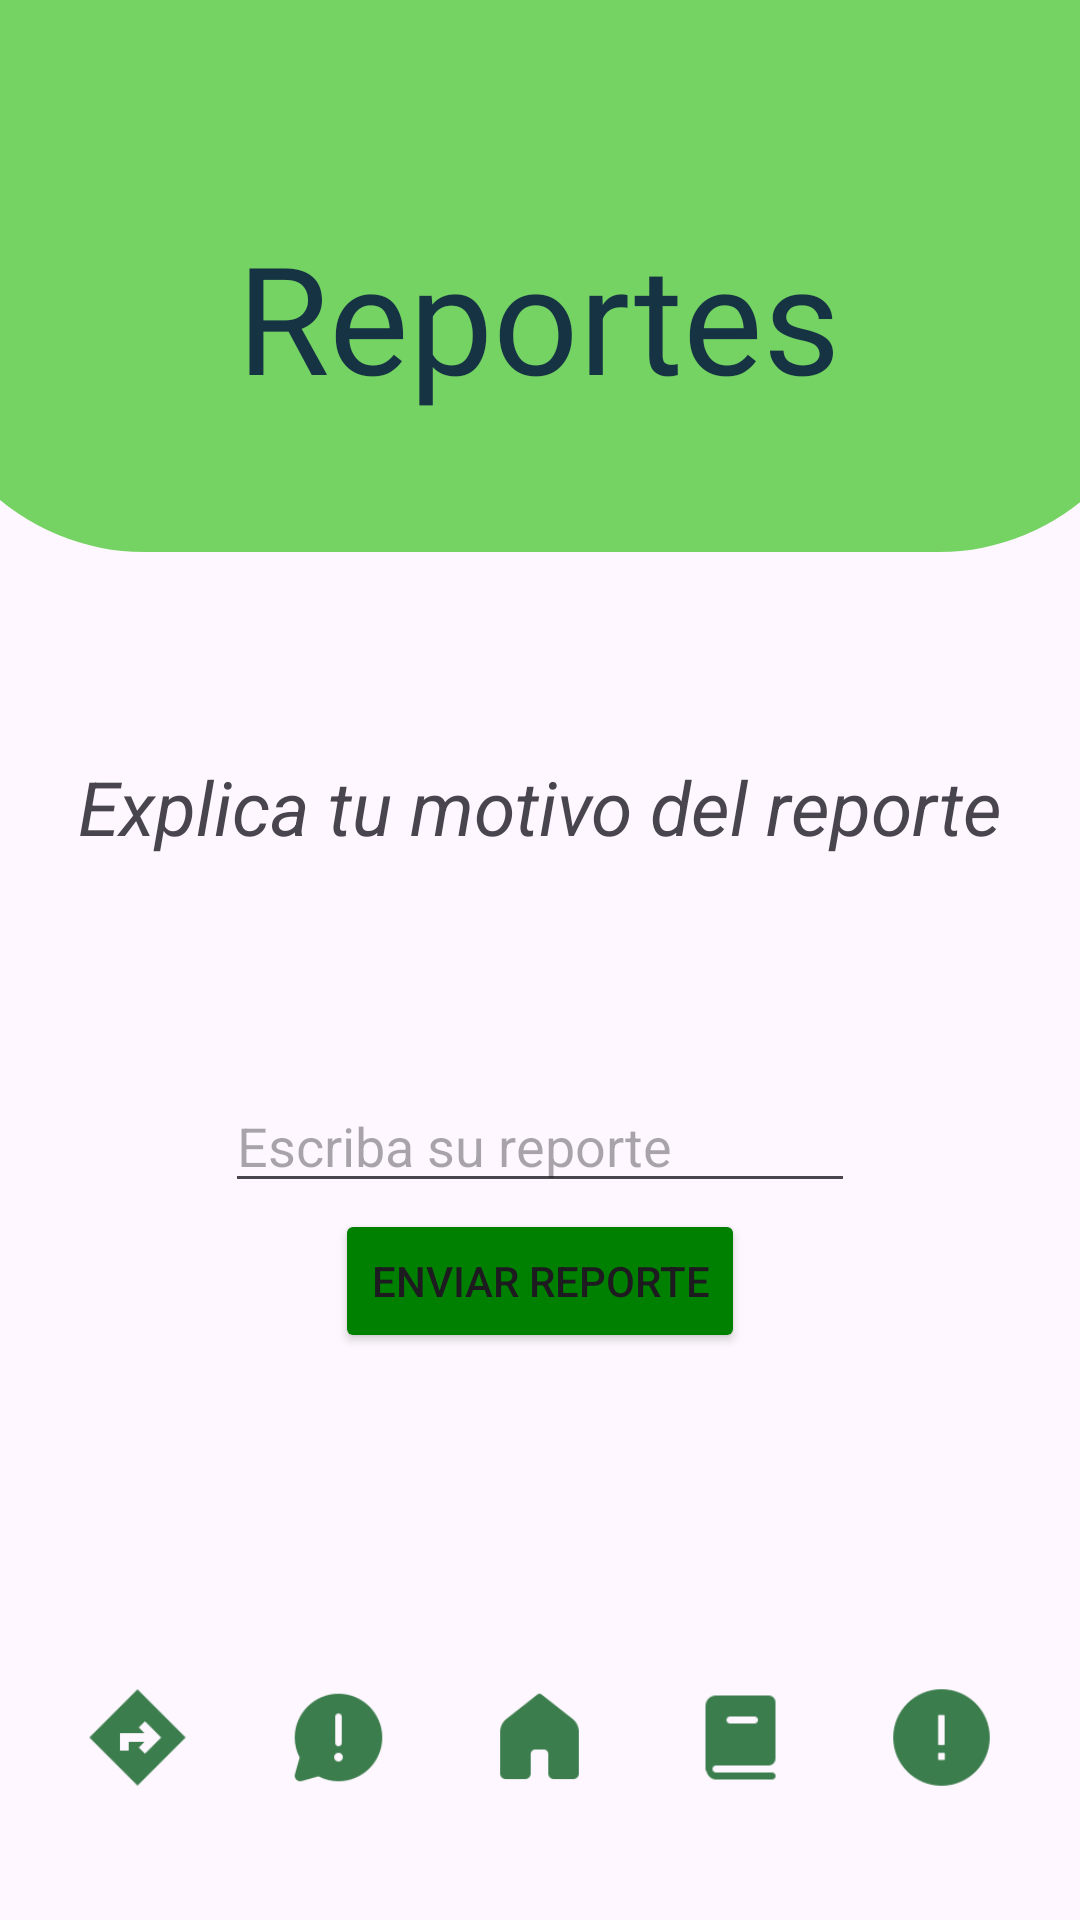

Point at icon controls on the screen. Image size 1080 x 1920, points as (x=x, y=y).
educaicono: (x=740, y=1737)
inicioicono: (x=539, y=1736)
rutasicono: (x=137, y=1737)
